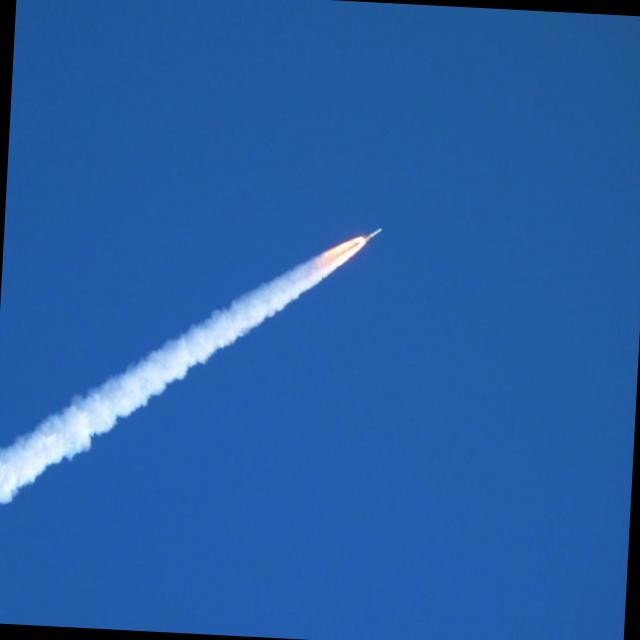rocket: (266, 216, 384, 323)
